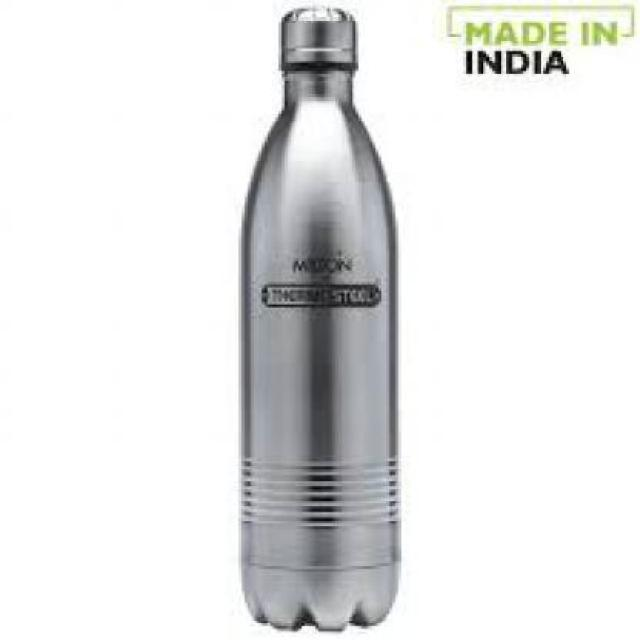Drinking: (222, 5, 432, 638)
